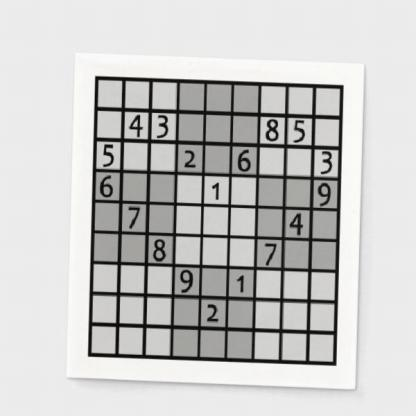sudoku: (84, 71, 346, 369)
